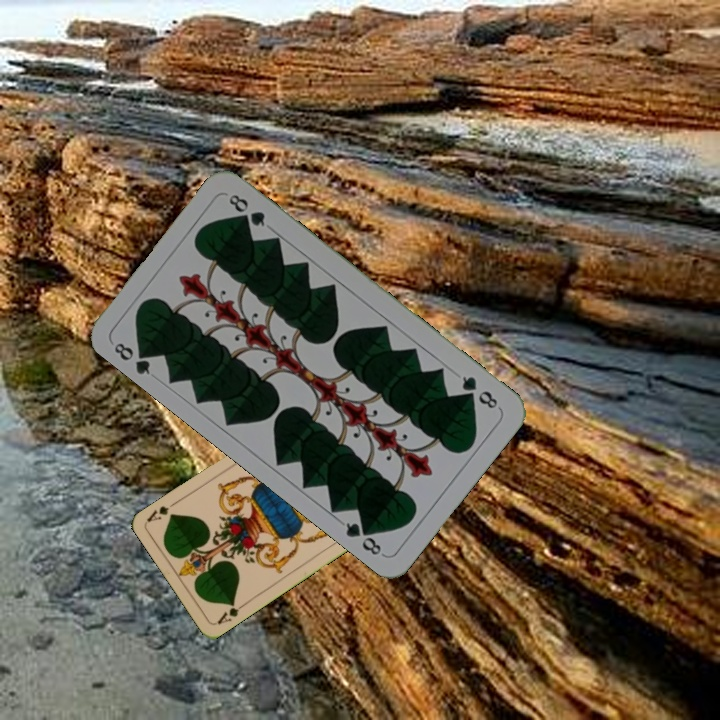G8: (109, 338, 156, 378), (457, 371, 501, 412)
GA: (213, 598, 249, 627)
